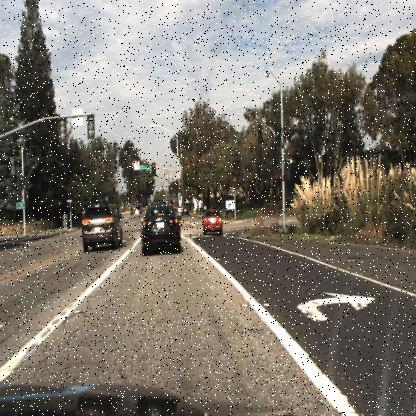car: (142, 202, 180, 255), (80, 202, 121, 250), (202, 211, 223, 236)
trafficLight-Red: (228, 173, 238, 191), (151, 159, 158, 179)
